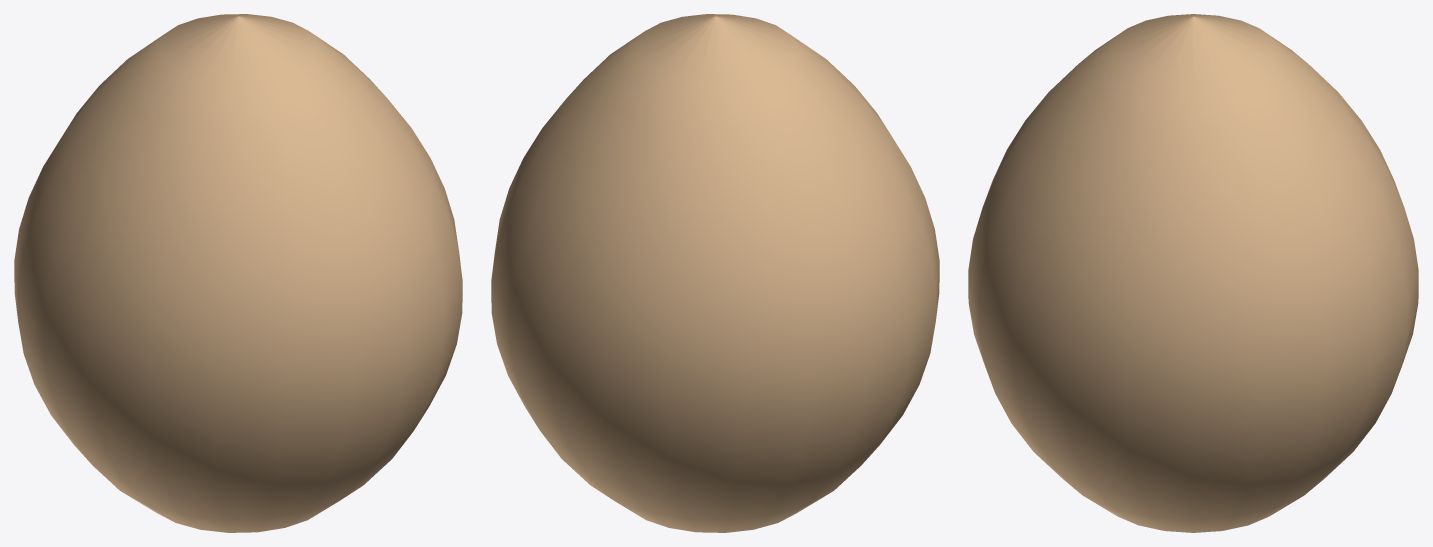
Rendered from egg.glb.
The picture shows the model from 3 angles, left to right: view 1: azimuth 30°, elevation 25°; view 2: azimuth 150°, elevation 25°; view 3: azimuth 270°, elevation 25°; orthographic projection.
Visible parts, largest first — view 1: egg_shell; view 2: egg_shell; view 3: egg_shell.
Boxes of the visible parts, x1=… form: egg_shell: x1=14, y1=14, x2=462, y2=532; egg_shell: x1=491, y1=14, x2=939, y2=532; egg_shell: x1=968, y1=14, x2=1418, y2=532.
Size of the model in its own units: 0.26 by 0.324 by 0.26.
